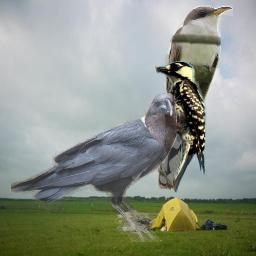Crow: (11, 93, 177, 242)
Cuckoo: (158, 5, 233, 190)
Woodpecker: (153, 61, 209, 194)
